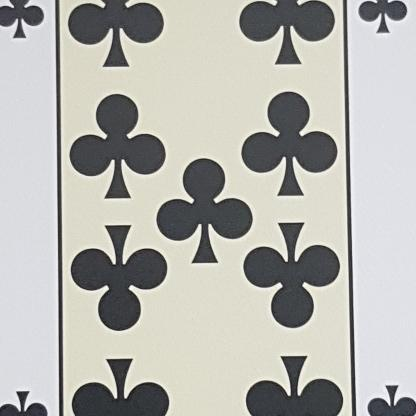9c: (346, 0, 415, 51), (0, 0, 54, 59)
